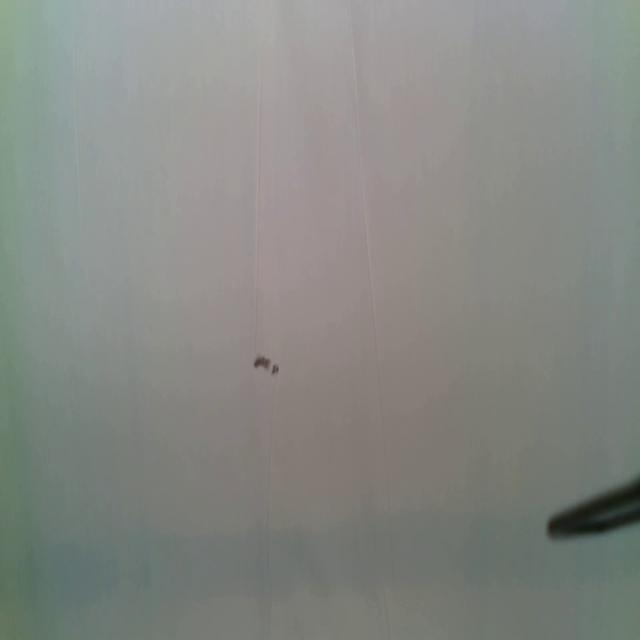color bleeding: (0, 510, 544, 623)
crease: (345, 2, 387, 450), (264, 382, 278, 570), (255, 57, 264, 347), (72, 36, 83, 236)
hole: (251, 353, 271, 370), (271, 362, 279, 378)
